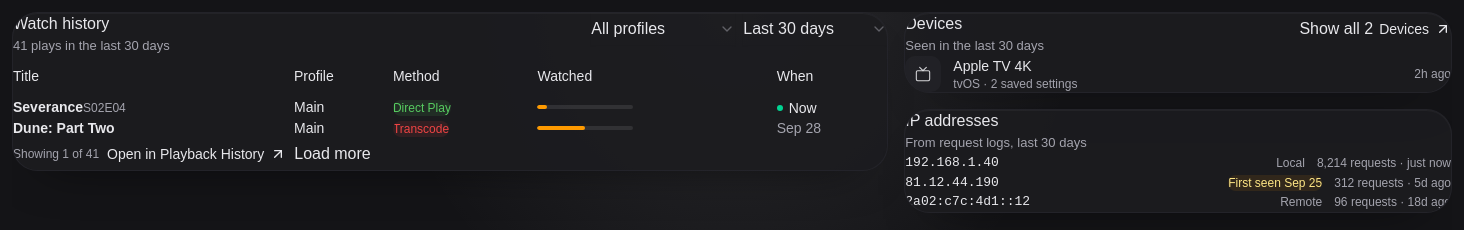
ActivityTab watch history › loads the next page with the cursor and the same window
expect the link "Dune: Part Two" is shown: met, box [13,120,115,136]
expect the link "Severance" is shown: met, box [13,99,83,115]
Click the button "Load more": (333, 154) [294,138,371,170]
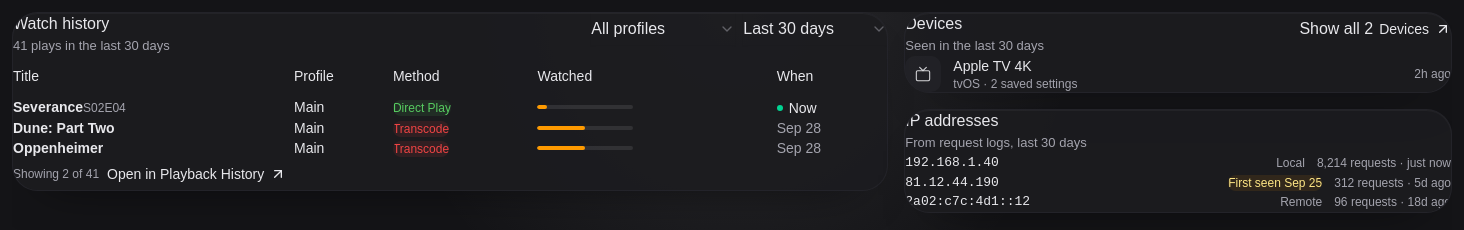
expect the link "Oppenheimer" is shown: met, box [13,140,103,156]
expect the button "Load more" is gone: met
